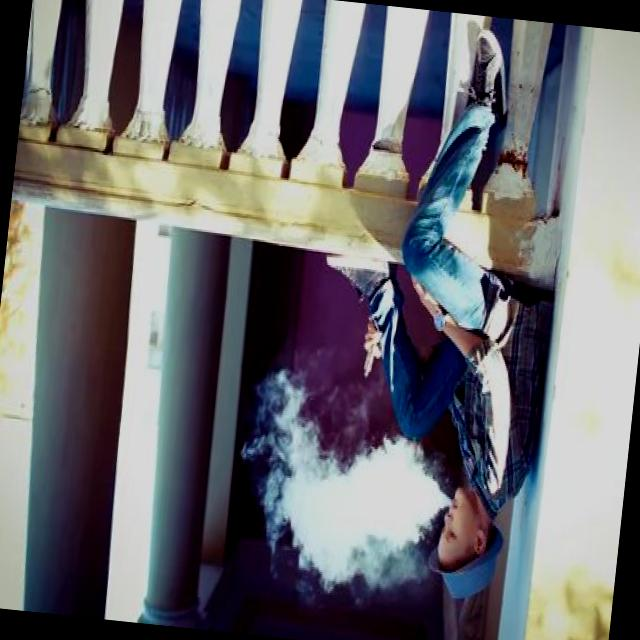smoke: (358, 316, 388, 386)
